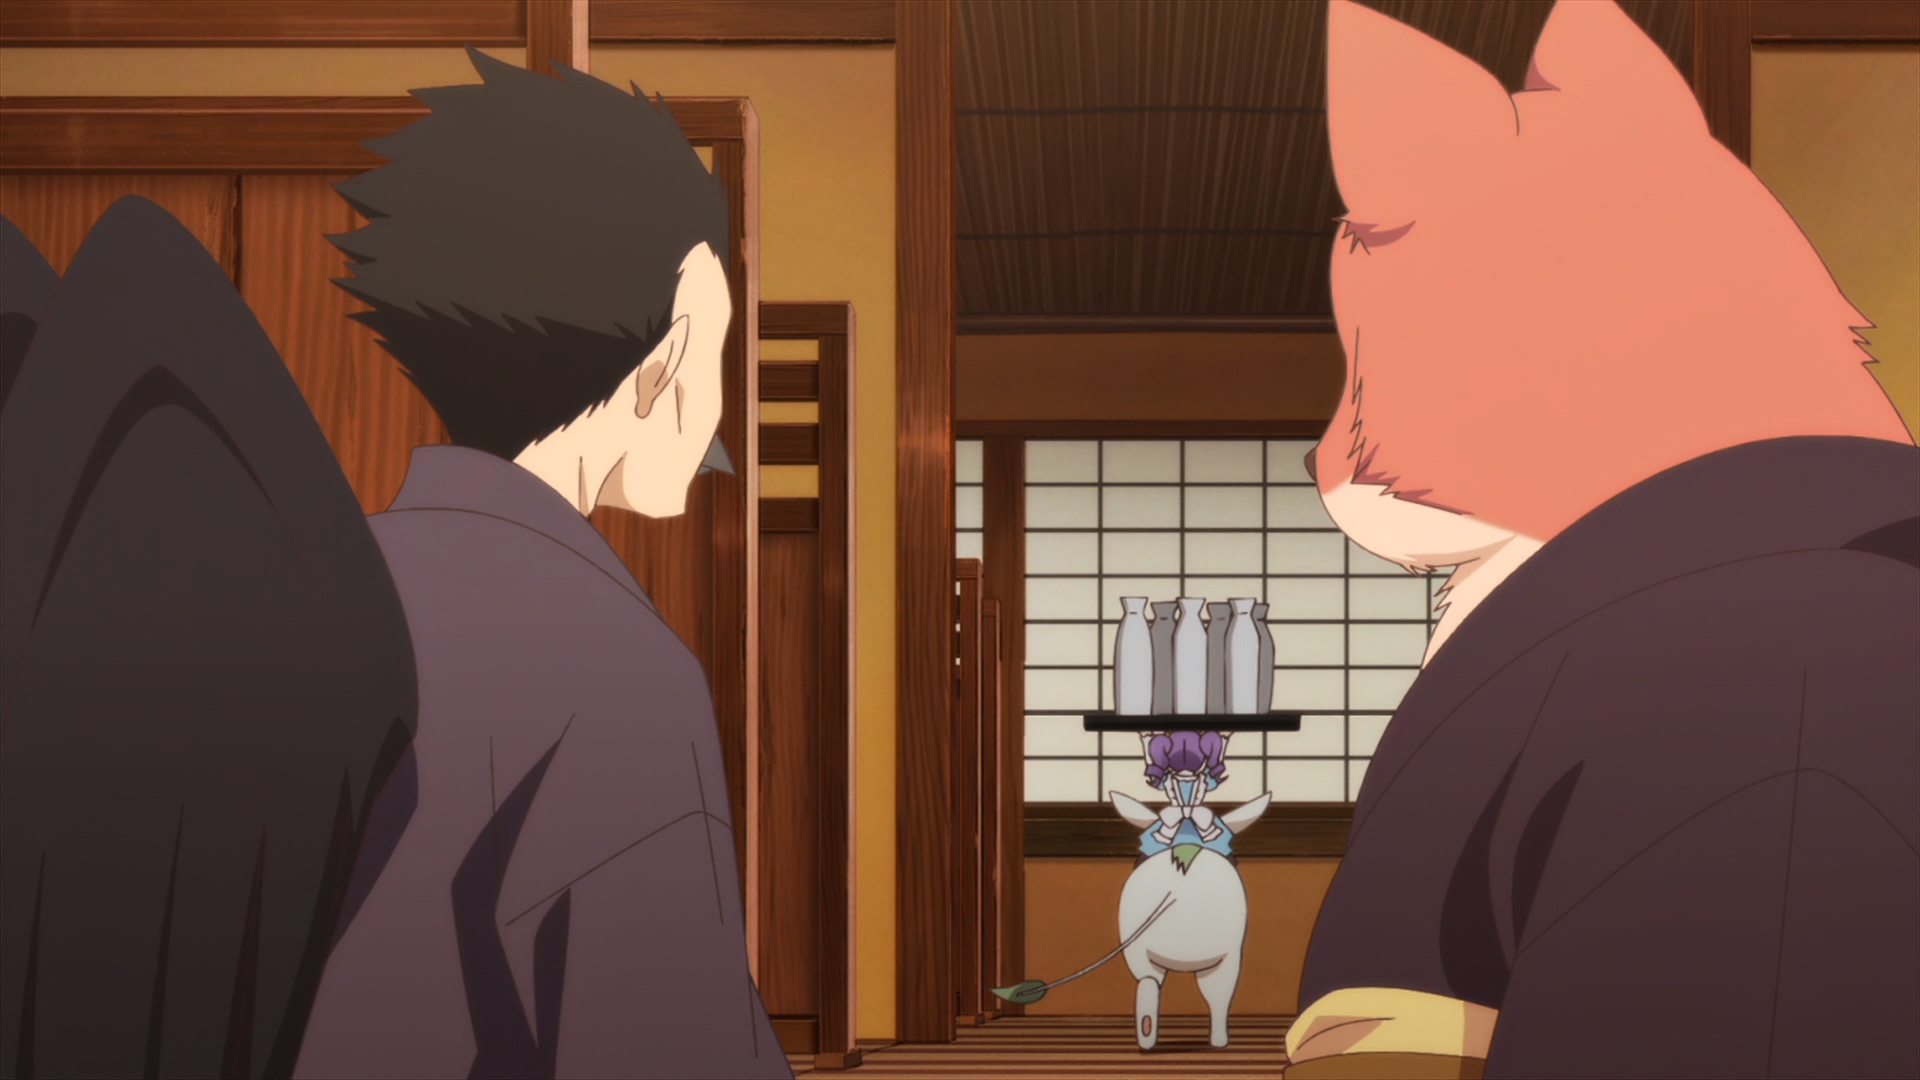其他: (1, 45, 793, 1080)
椿: (1280, 1, 1920, 1080)
瓜之介: (990, 789, 1276, 1052)
阿菊: (1135, 731, 1236, 868)
